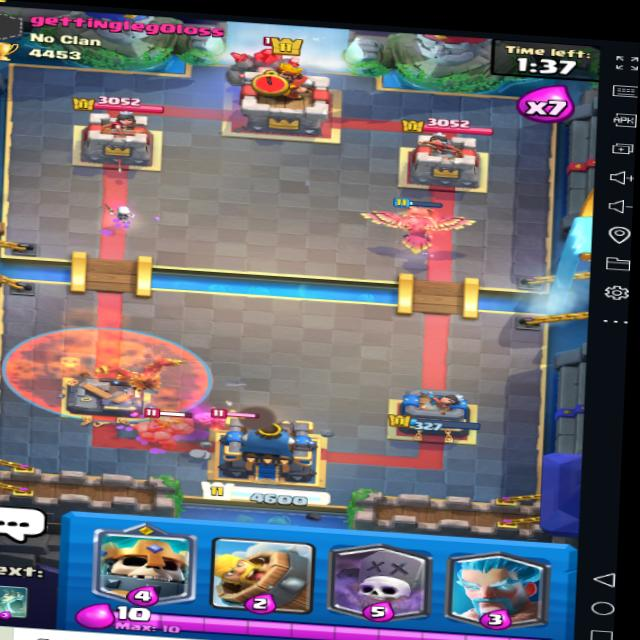Golem: (222, 31, 315, 93), (135, 406, 197, 449), (199, 403, 265, 438)
